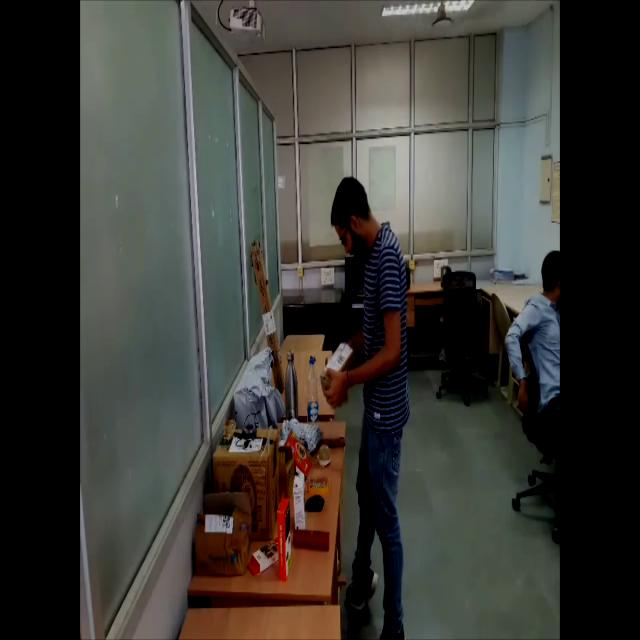normal: (316, 147, 420, 640)
